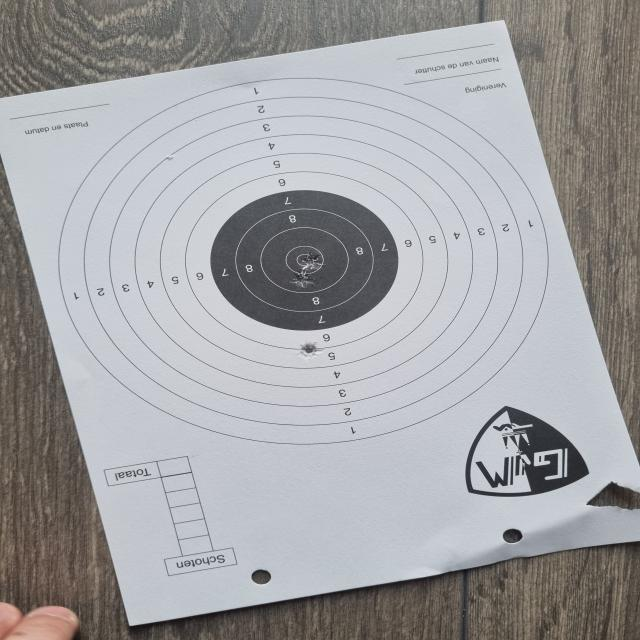10: (290, 269, 315, 288), (302, 252, 322, 271)
6: (294, 342, 324, 359)
Target: (58, 81, 554, 446)
black_contour: (211, 192, 401, 332)
